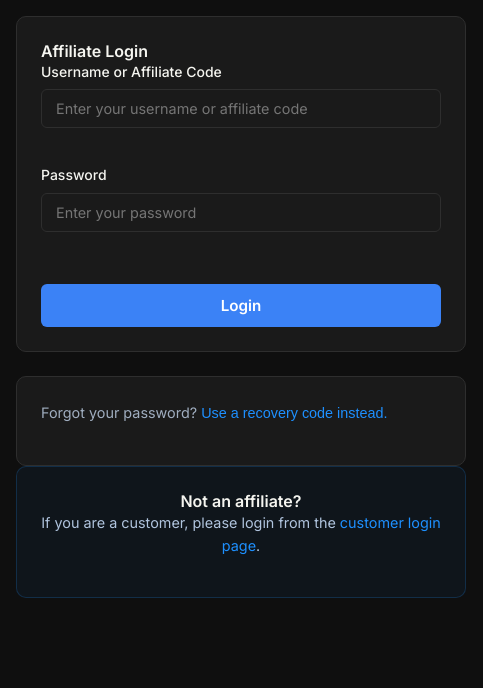
Test: affiliate.jsx — Affiliate Login Page › login form › shows error message from server on failed login
The width and height of the screenshot is (483, 688).
In the field with placeholder "Enter your username or affiliate code": (241, 109) [41, 89, 441, 128], type "baduser"
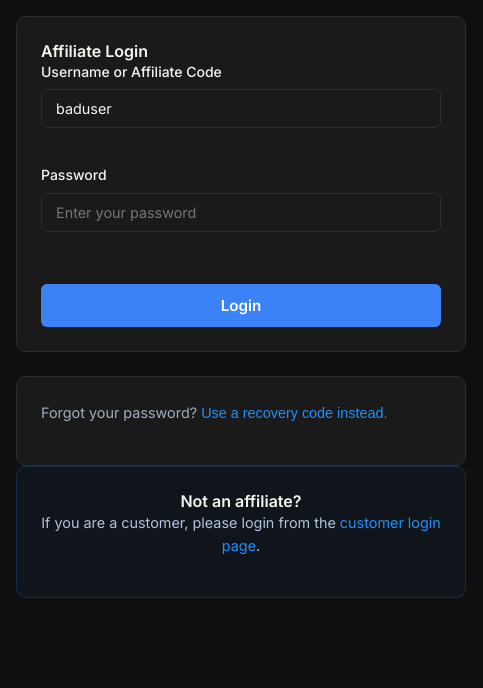
In the password field with placeholder "Enter your password": (241, 212) [41, 193, 441, 232], type "badpass"
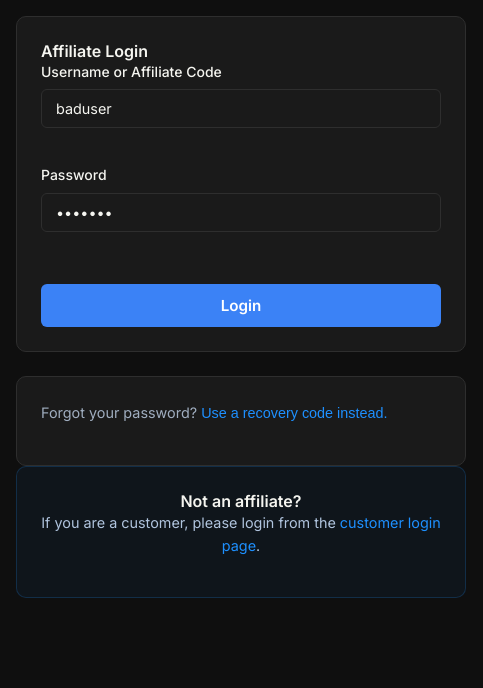
Click the button "Login": (241, 305) [41, 284, 441, 327]
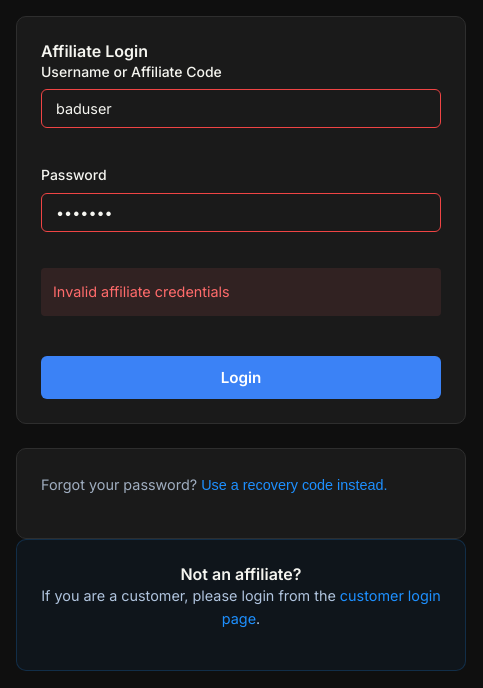
Expected: the text "Invalid affiliate credentials" is shown, [41, 268, 441, 316]
